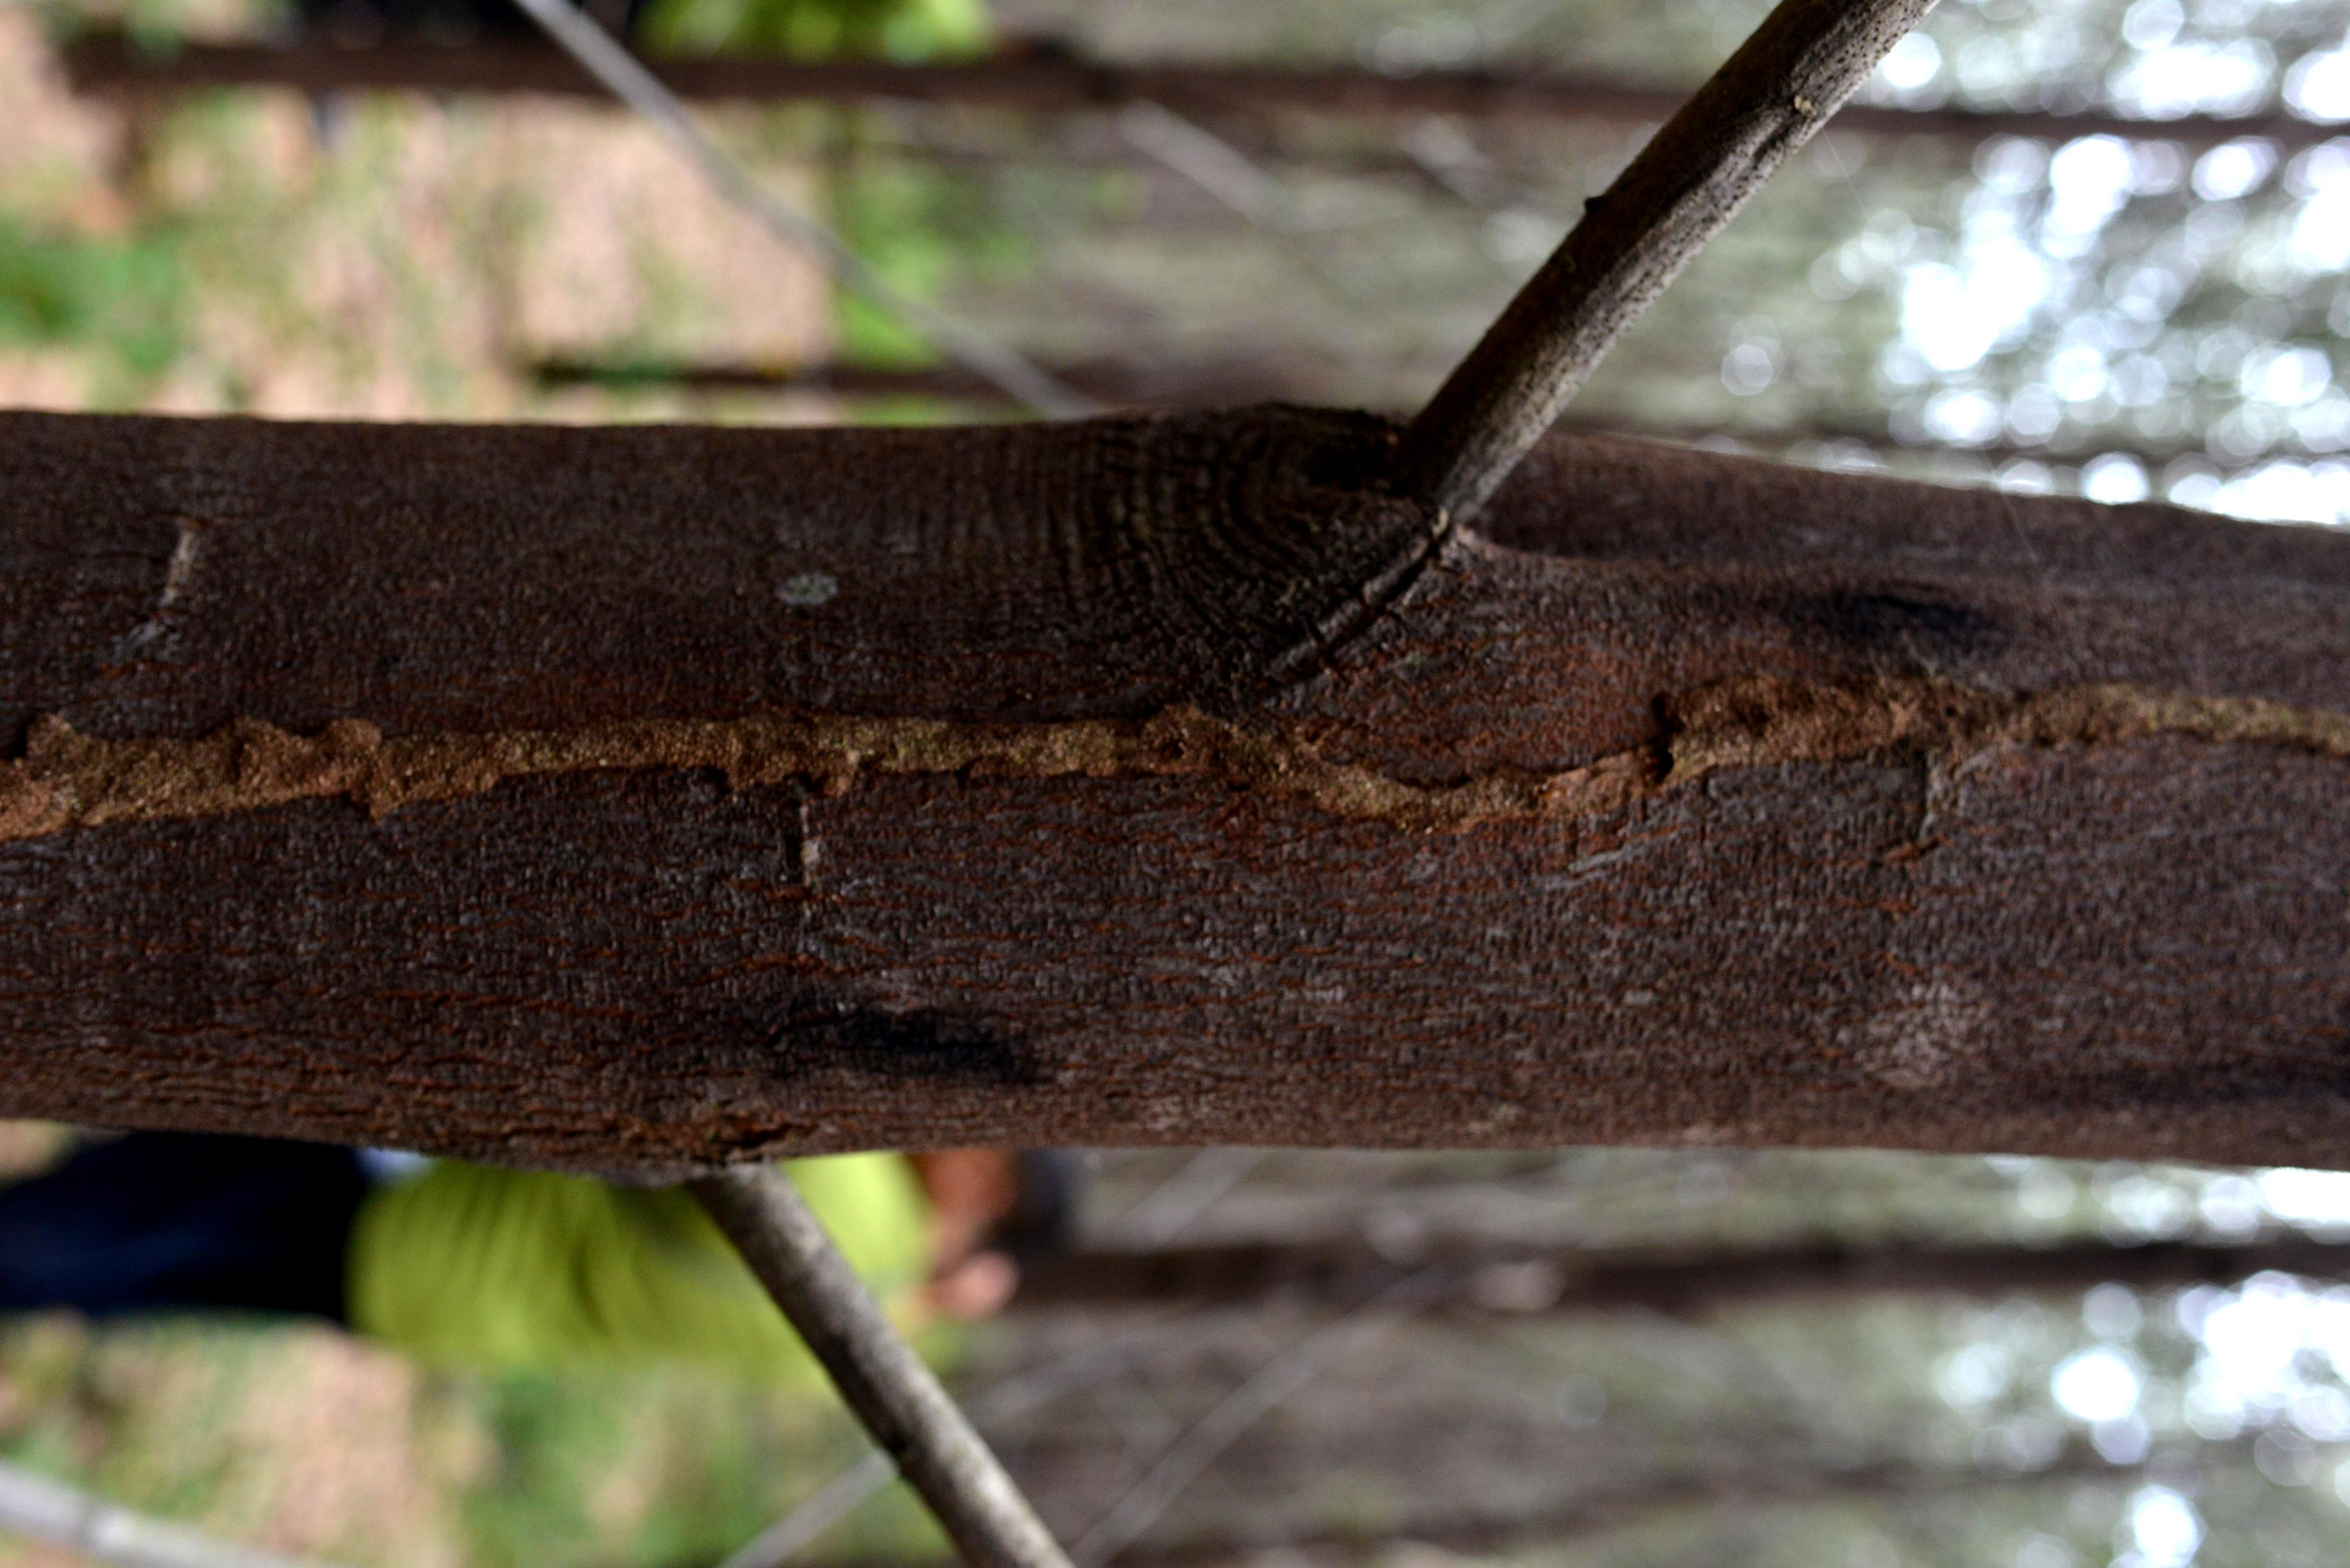Termite - Nest: (0, 677, 2350, 842)
